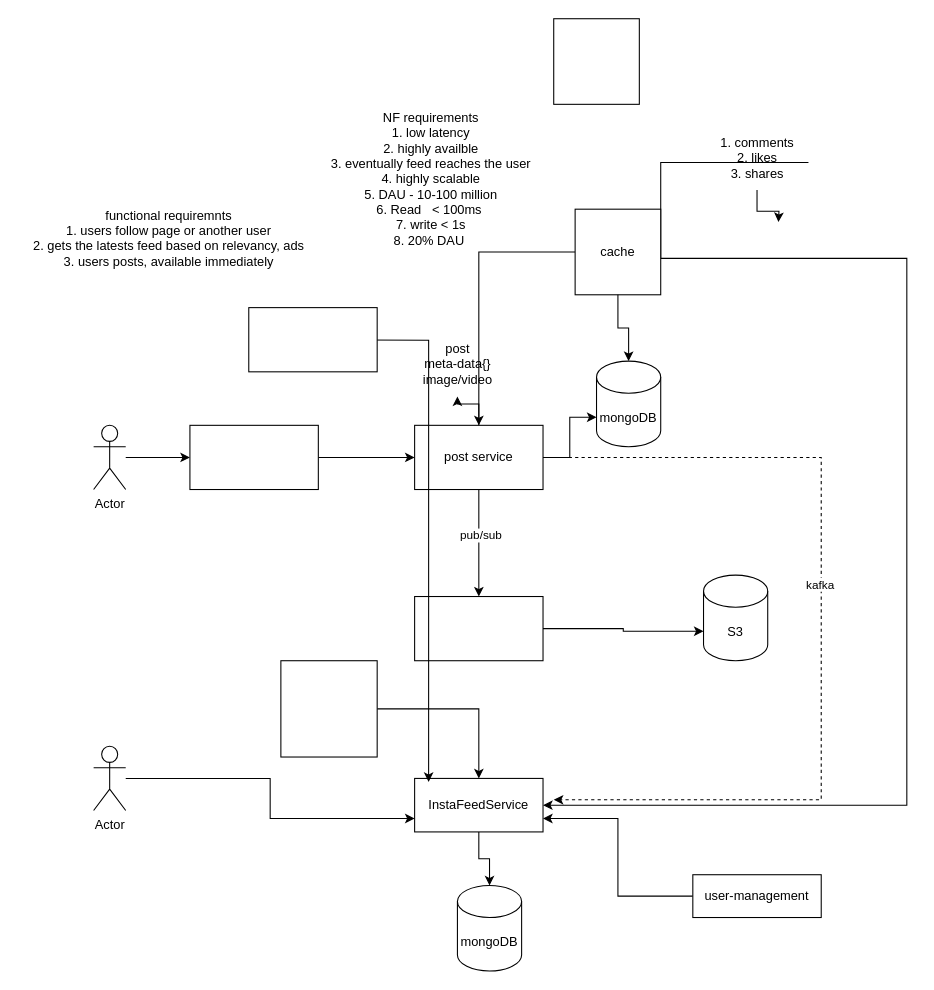
Some shapes in this 934 by 990 pixel diagram are drawn without their labels. Each missing label, with the box of its shape:
ads service: (248, 307, 377, 372)
cache write-through: (280, 660, 377, 757)
content upload service: (414, 595, 543, 661)
LB: (189, 424, 318, 490)
